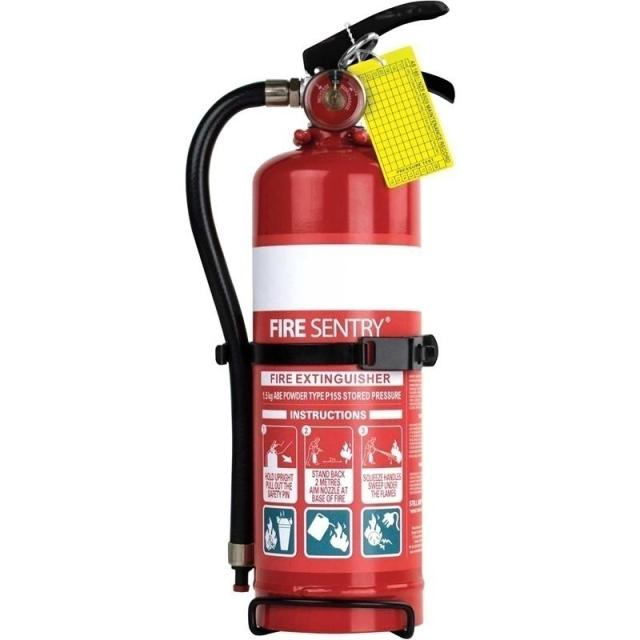fire_extinguisher: (179, 0, 460, 639)
